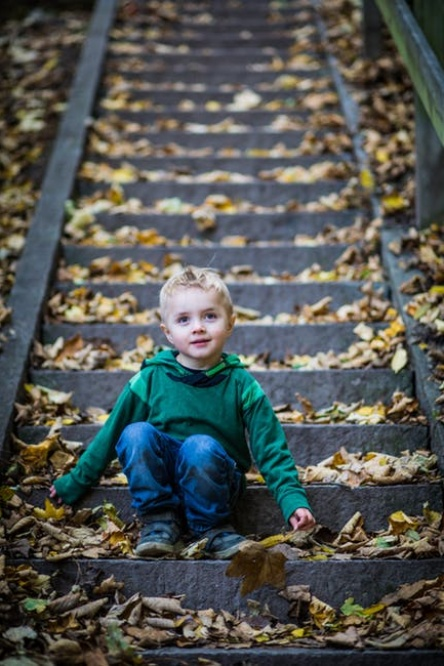face: (169, 288, 226, 358)
